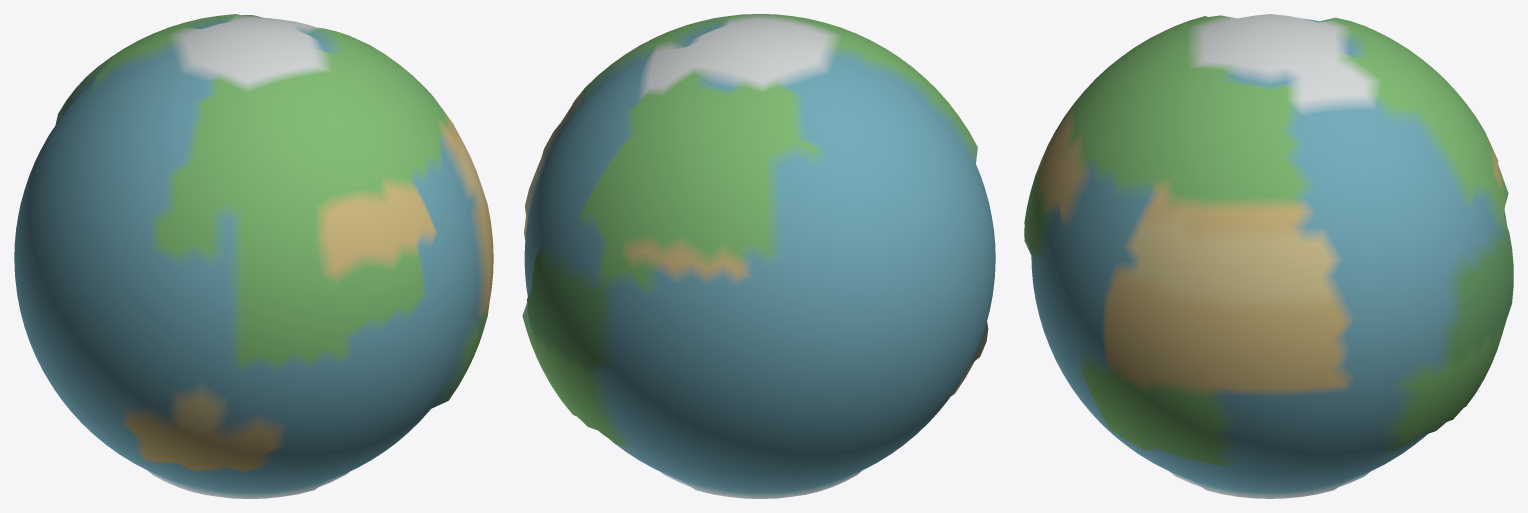
File: low_poly_earth.glb
3 renders of one model, left to right at view 1: azimuth 30°, elevation 25°; view 2: azimuth 150°, elevation 25°; view 3: azimuth 270°, elevation 25°, orthographic.
Visible parts, largest first — view 1: Earth; view 2: Earth; view 3: Earth.
Part boxes in pixels (box(x1,y1,x2,y2)): Earth: box(14, 14, 493, 498); Earth: box(522, 14, 995, 498); Earth: box(1024, 14, 1513, 498).
Bounding box in the file's own units: 2.03 × 2.04 × 2.05.
